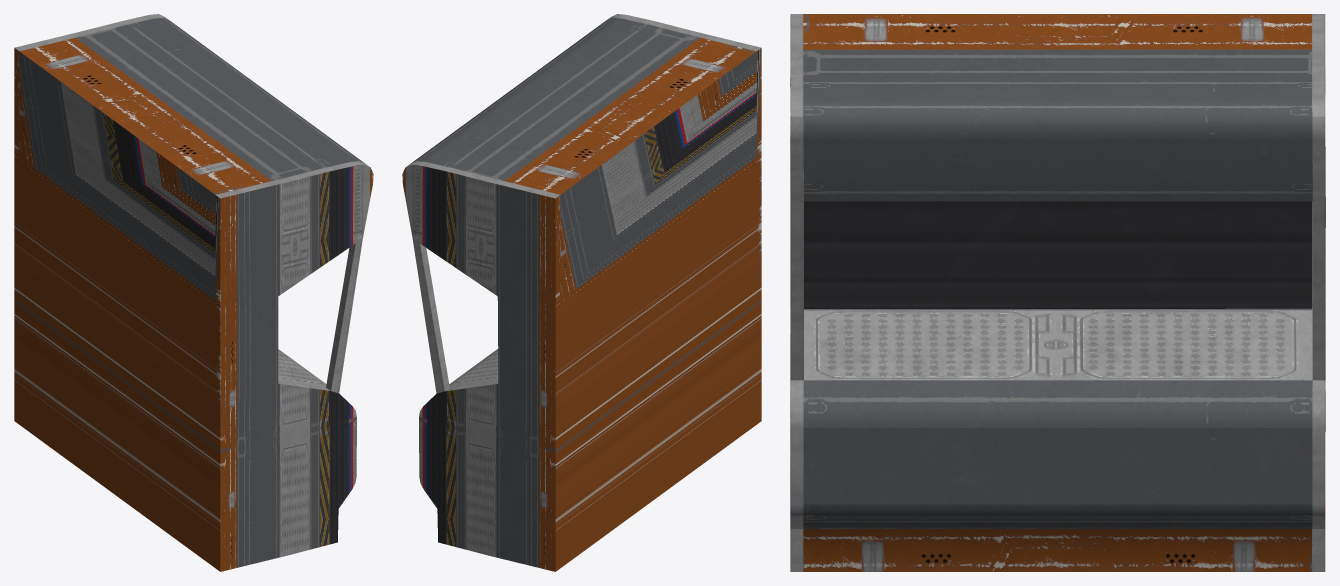
Rendered from wall_300.FBX.
The picture shows the model from 3 angles, left to right: view 1: azimuth 30°, elevation 25°; view 2: azimuth 150°, elevation 25°; view 3: azimuth 270°, elevation 25°; orthographic projection. The views are drawn at different scales.
Visible parts, largest first — view 1: Object019; view 2: Object019; view 3: Object019.
Part boxes in pixels (bbox=[...]): Object019: bbox=[14, 14, 373, 571]; Object019: bbox=[402, 14, 761, 571]; Object019: bbox=[790, 14, 1325, 571].
Bounding box in the file's own units: 129 × 300 × 300.
